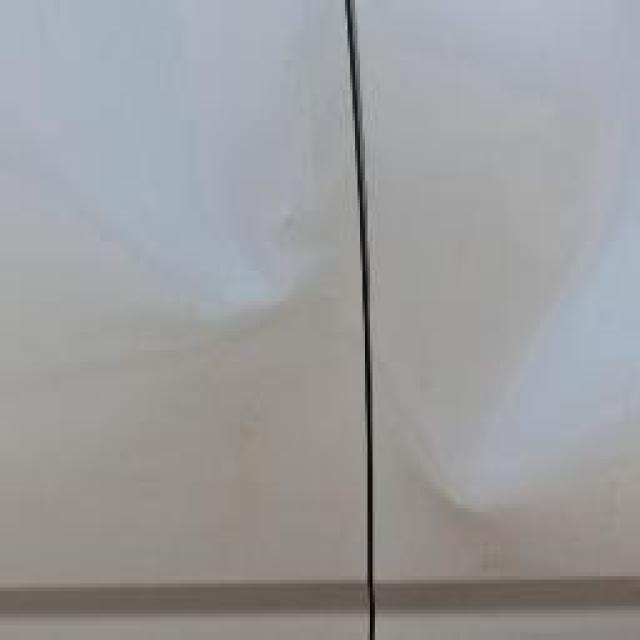Door: (400, 233, 588, 497), (138, 147, 300, 350)
